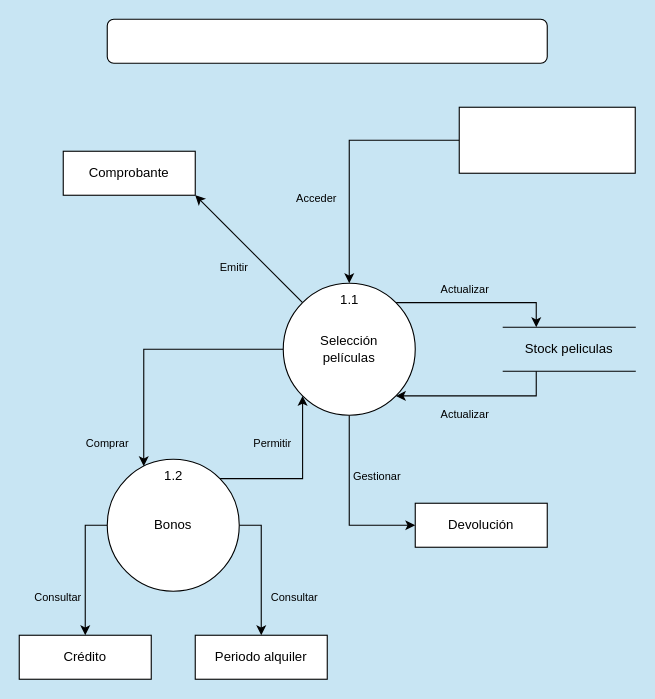
Image size: 655x699. Some labels were removed from this diagram. The centre of each missing label's shape, as x and y in pixels:
"Alquiler clientes" belongs at [546,139].
"Diagrama 1: Alquiler clientes" belongs at [326,40].
